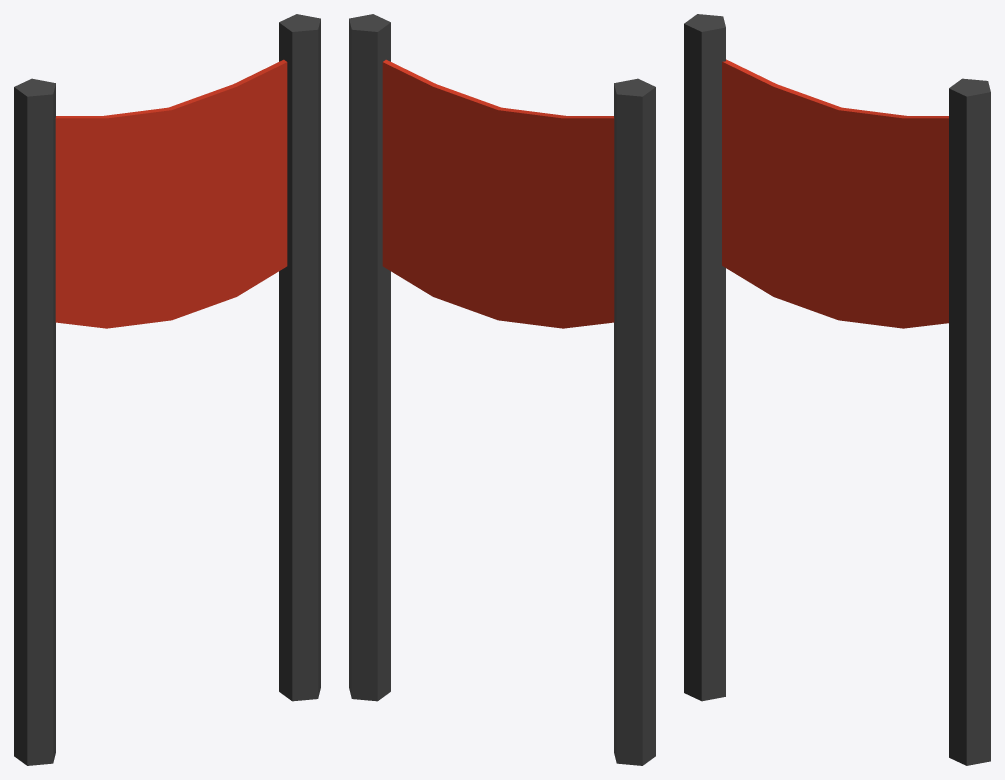
File: flag_02.fbx
3 renders of one model, left to right at view 1: azimuth 30°, elevation 25°; view 2: azimuth 150°, elevation 25°; view 3: azimuth 330°, elevation 25°, orthographic.
Parts seen in each view (by area): view 1: flag_4; view 2: flag_4; view 3: flag_4.
Boxes of the visible parts, <box> form: flag_4: <box>14,14,320,765</box>; flag_4: <box>349,14,655,765</box>; flag_4: <box>684,14,990,765</box>.
Size of the model in its own units: 1.55 by 3.3 by 0.1922.
